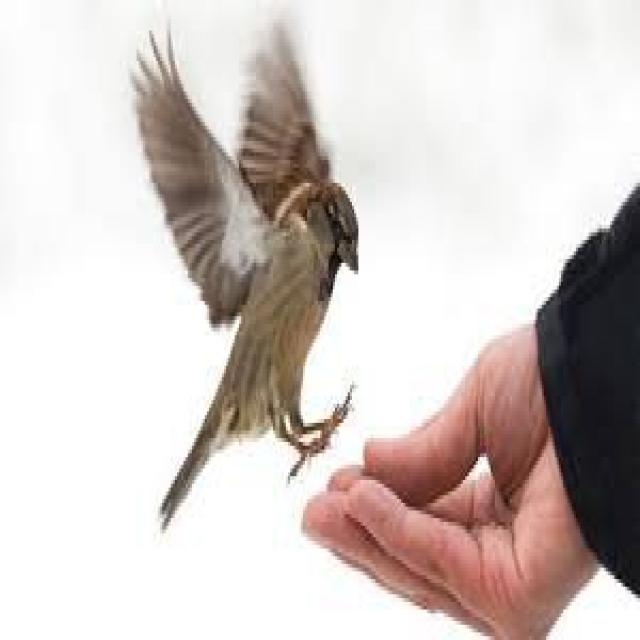Sparrow: (120, 31, 360, 512)
